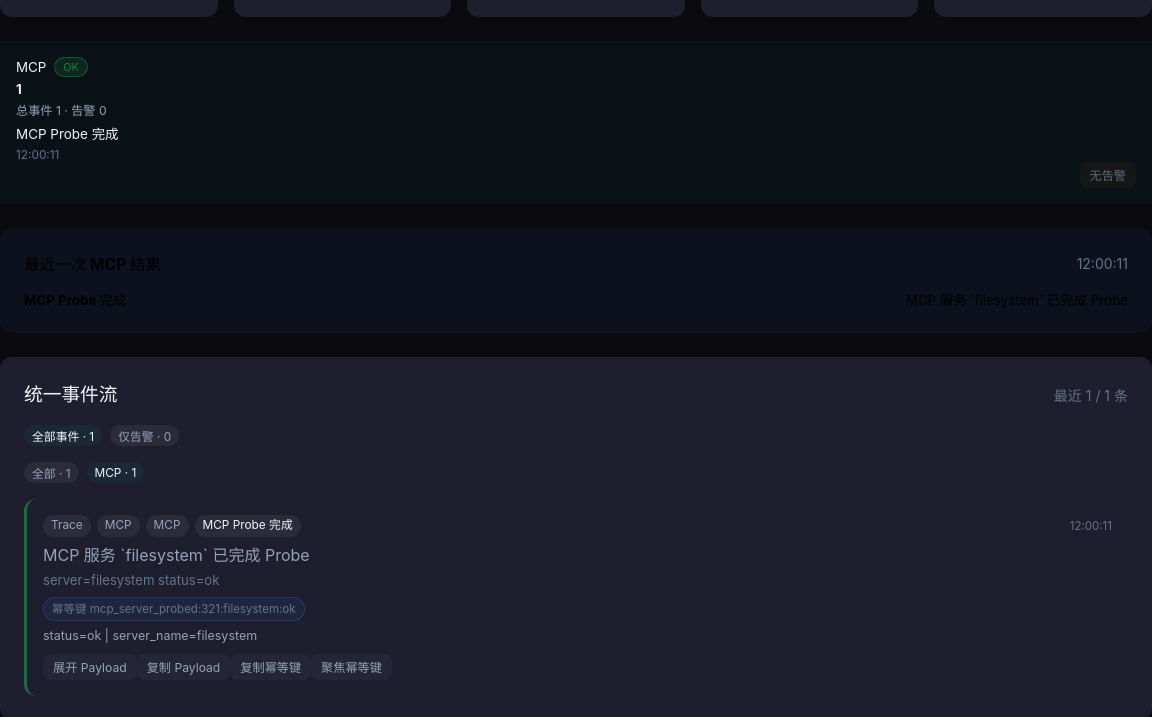
Test case: GovernanceTimelinePanel › supports route-driven filter and payload expansion
Click the button "展开 Payload": (90, 666) top-left (43, 654), bottom-right (137, 680)
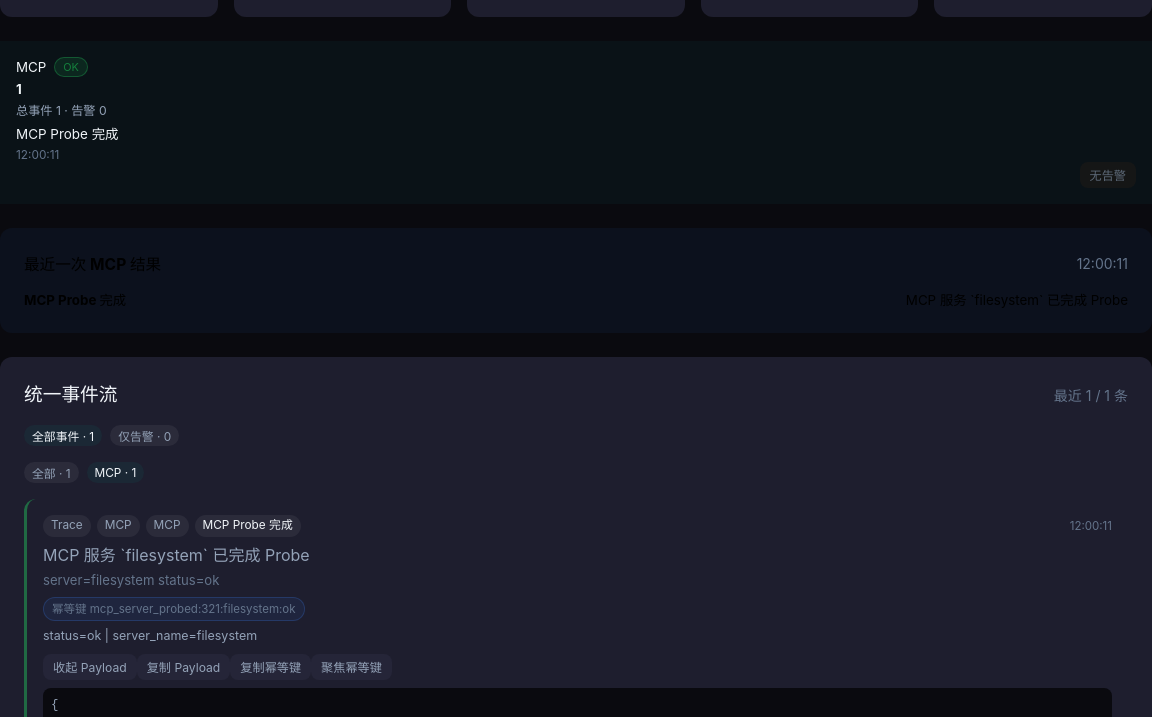
Click the button "复制 Payload": (184, 666) top-left (137, 654), bottom-right (230, 680)
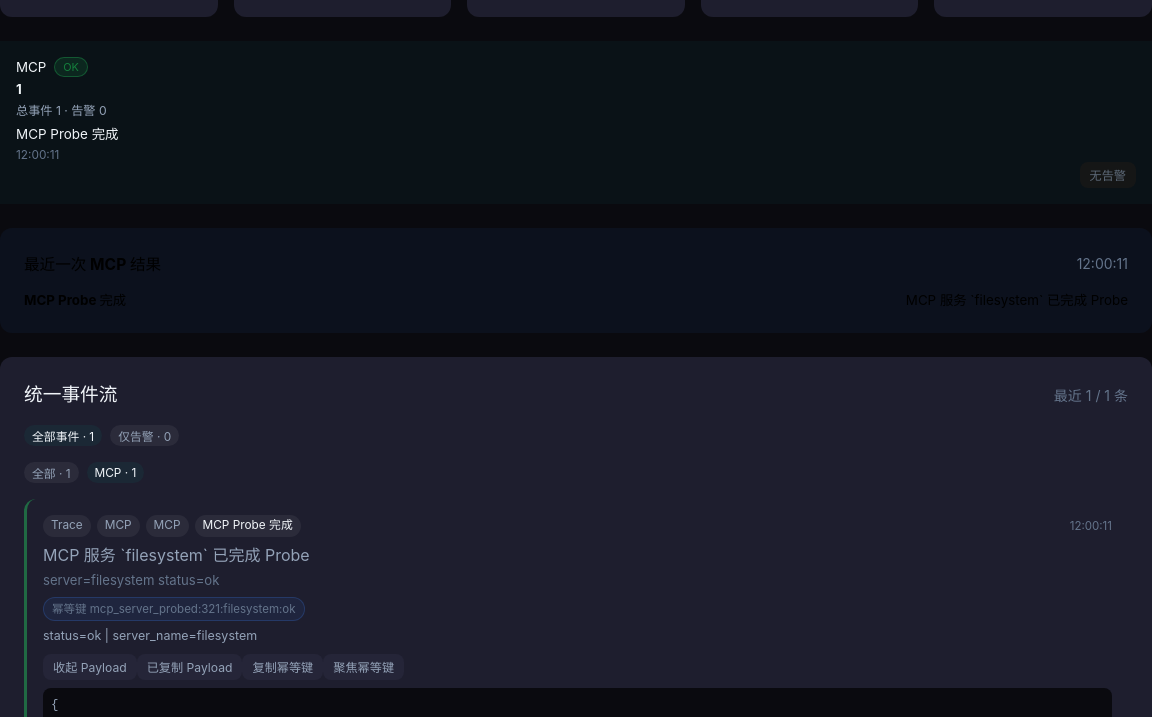
Now the text "已复制 Payload" is shown, box top-left (137, 654), bottom-right (242, 680)
Click the button "复制幂等键": (283, 666) top-left (242, 654), bottom-right (323, 680)
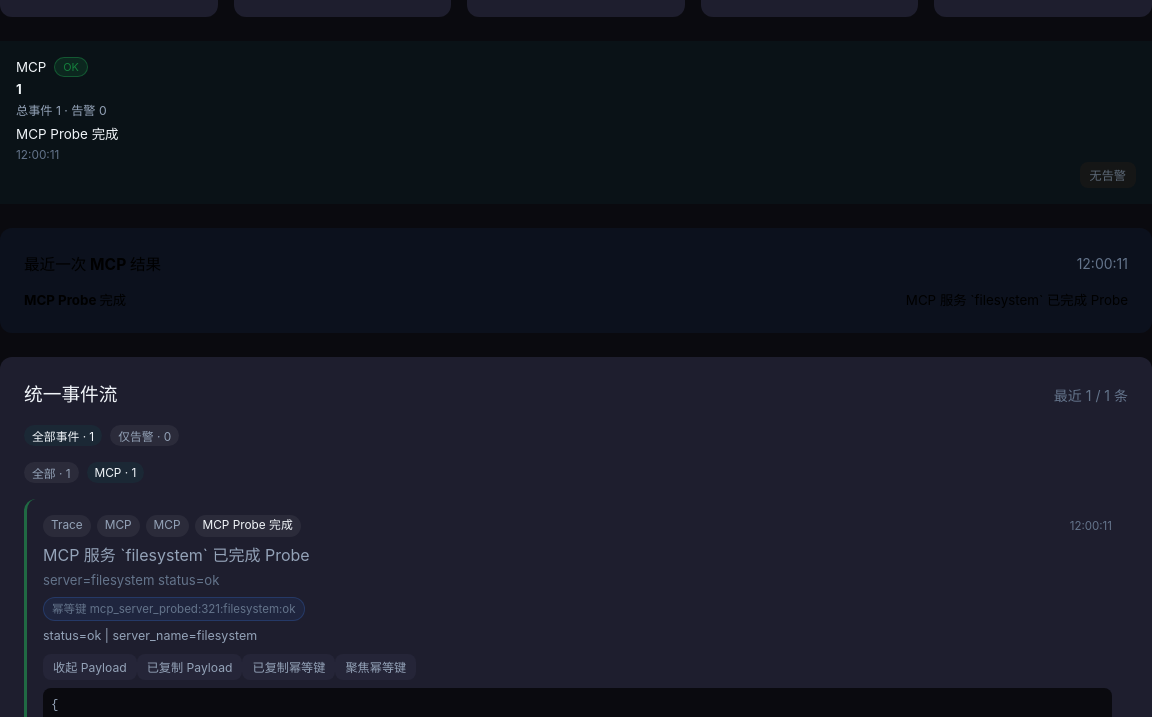
Now the text "已复制幂等键" is shown, box top-left (242, 654), bottom-right (335, 680)
